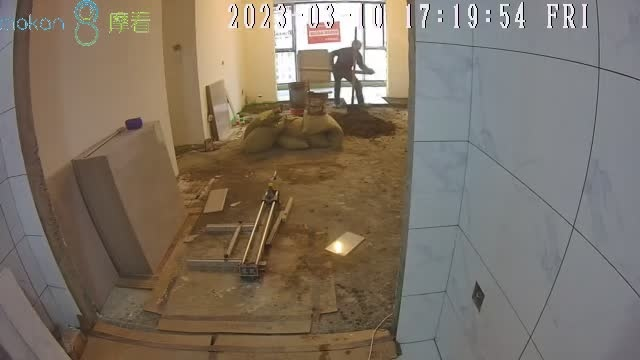people: (329, 40, 373, 106)
window: (273, 1, 386, 85)
